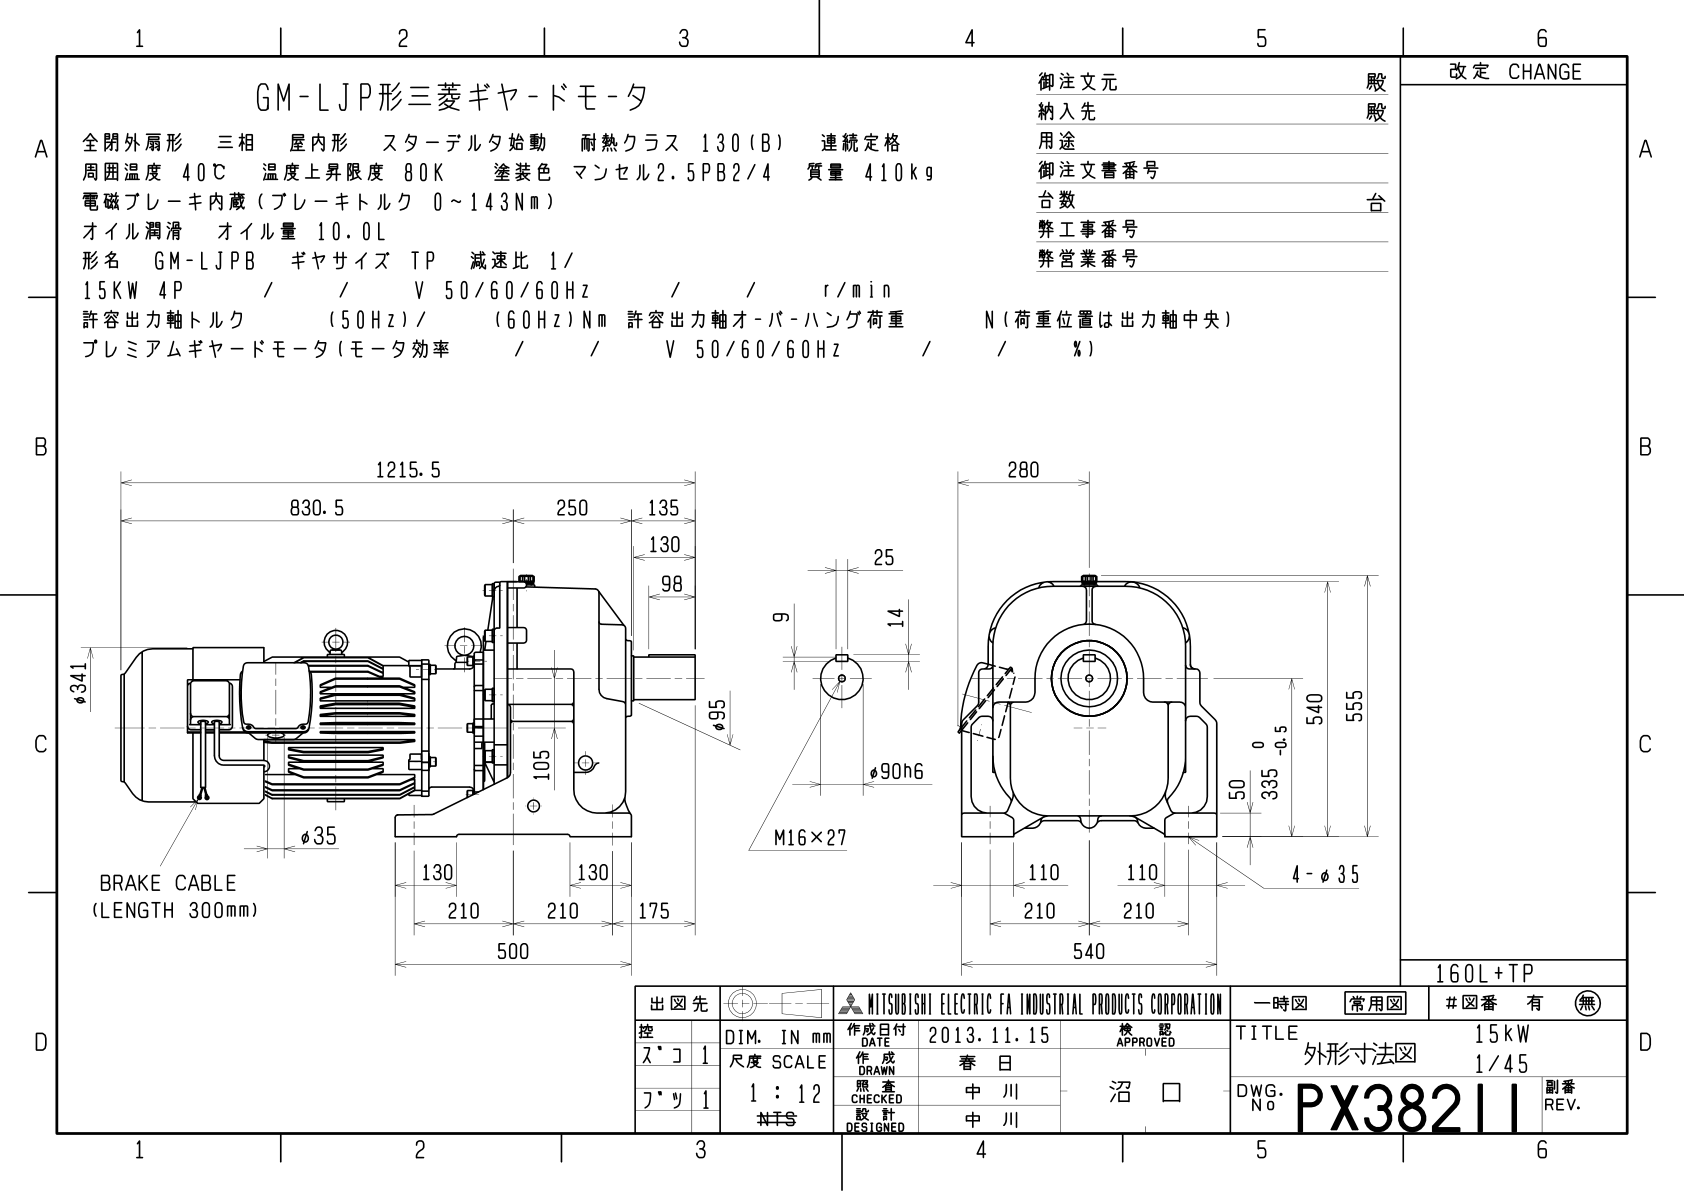GM_LJP_屋内_三相_脚: (4, 10, 1684, 1191)
